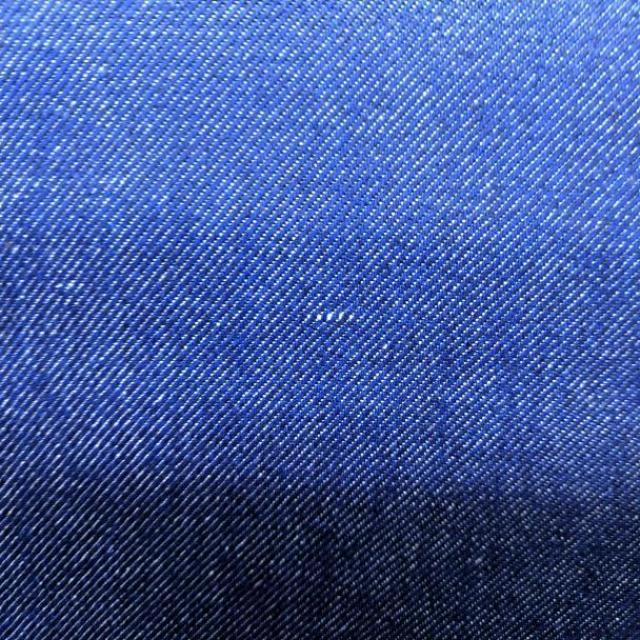Knot: (306, 311, 356, 325)
